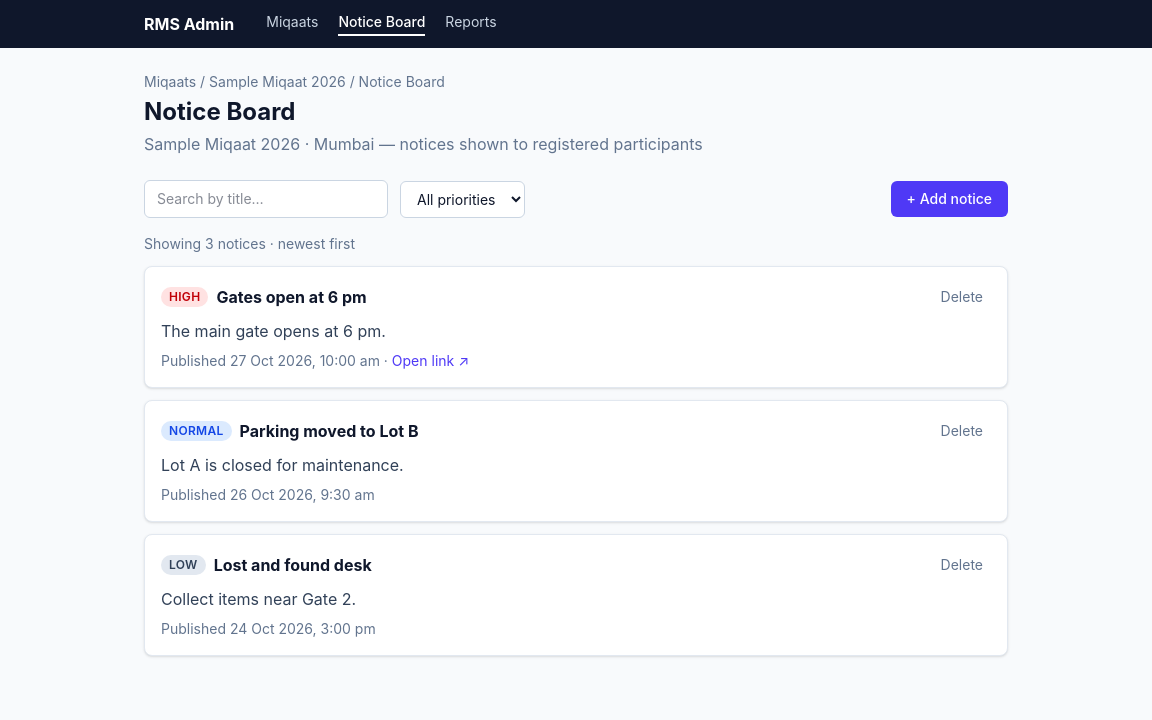
Test: NoticeBoard › adds a validated notice to the top of the list
Expected: the text "Showing 3 notices · newest first" is shown, x1=144 y1=235 x2=355 y2=252
Click the button "+ Add notice": (949, 199) x1=891 y1=181 x2=1008 y2=217
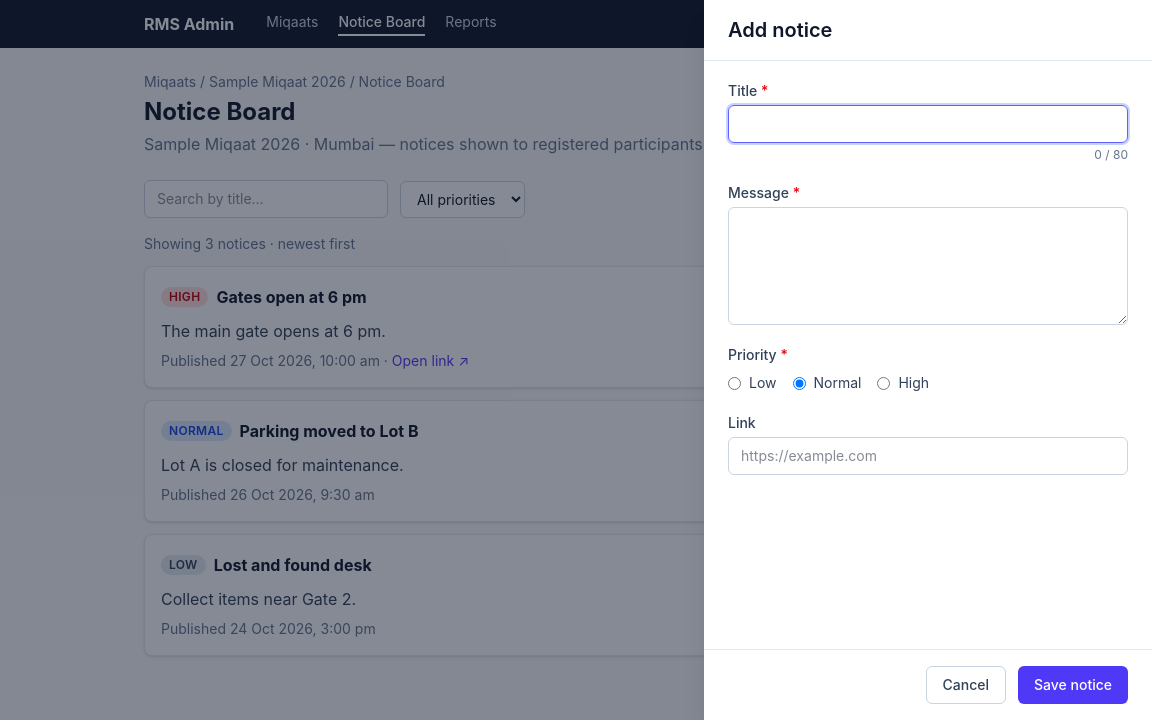
Click the button "Save notice": (1073, 685) x1=1018 y1=666 x2=1128 y2=704
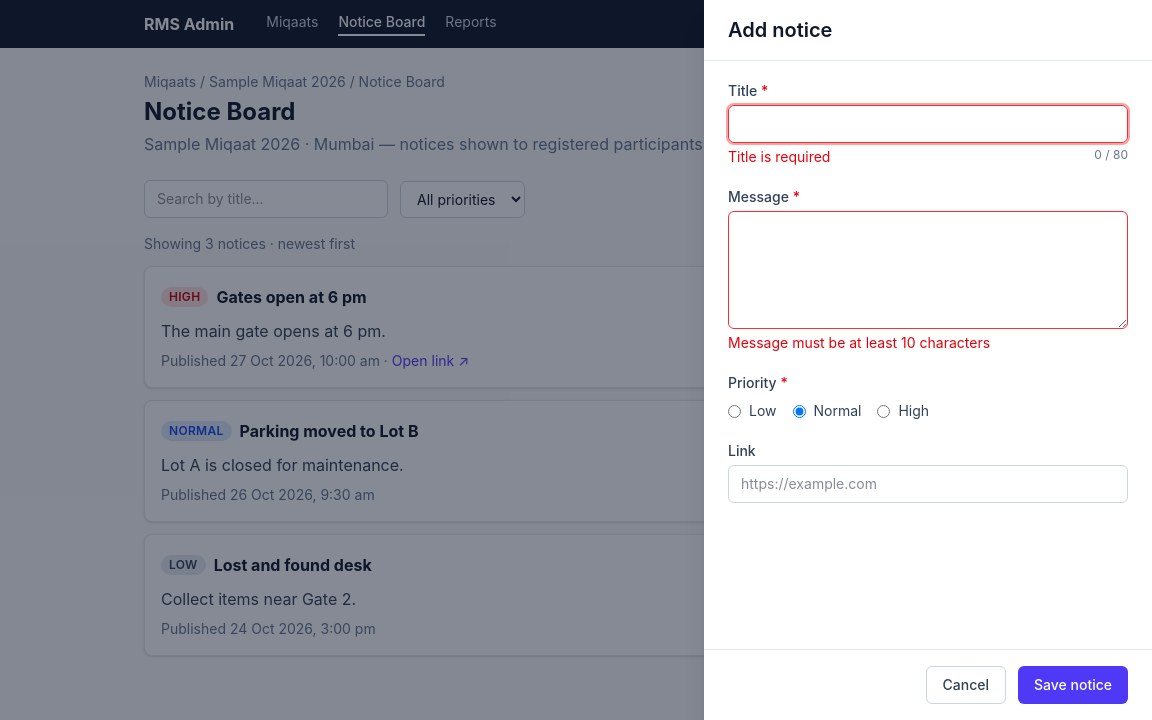
Expected: the text "Title is required" is shown, x1=728 y1=147 x2=830 y2=167
In the field labelled "Title *": (928, 124) x1=728 y1=105 x2=1128 y2=143, type "Water stations"
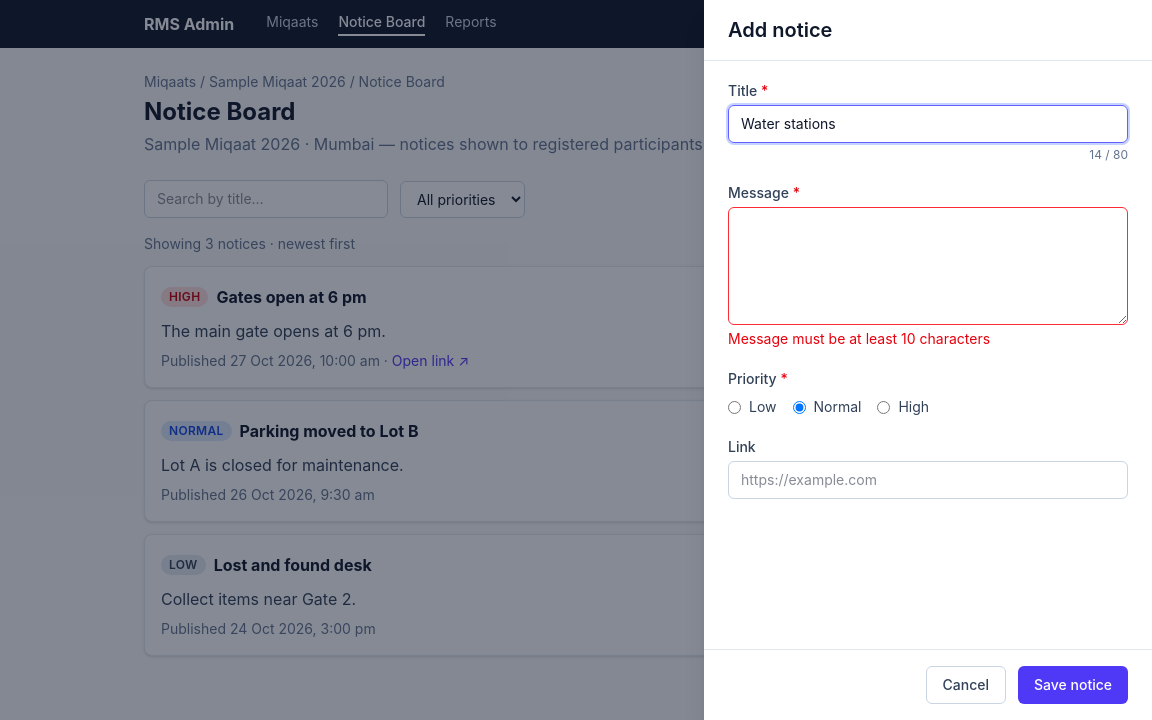
In the text box labelled "Message *": (928, 266) x1=728 y1=207 x2=1128 y2=325, type "Water is available at every gate."
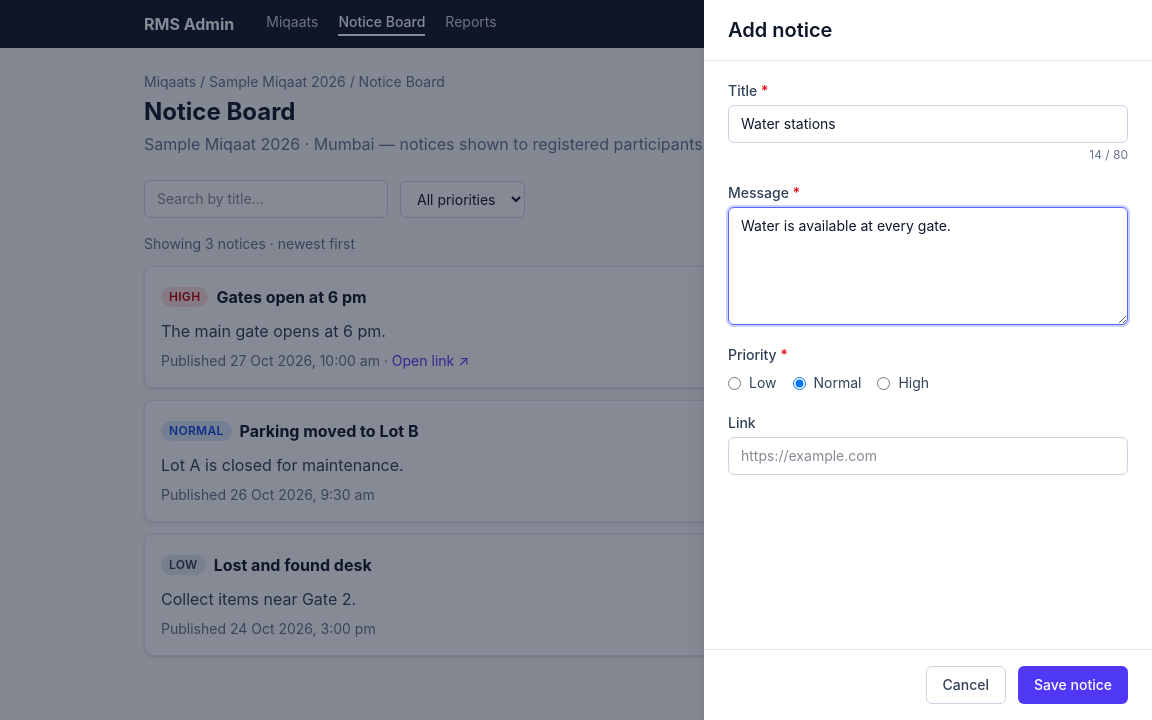
Click the button "Save notice": (1073, 685) x1=1018 y1=666 x2=1128 y2=704
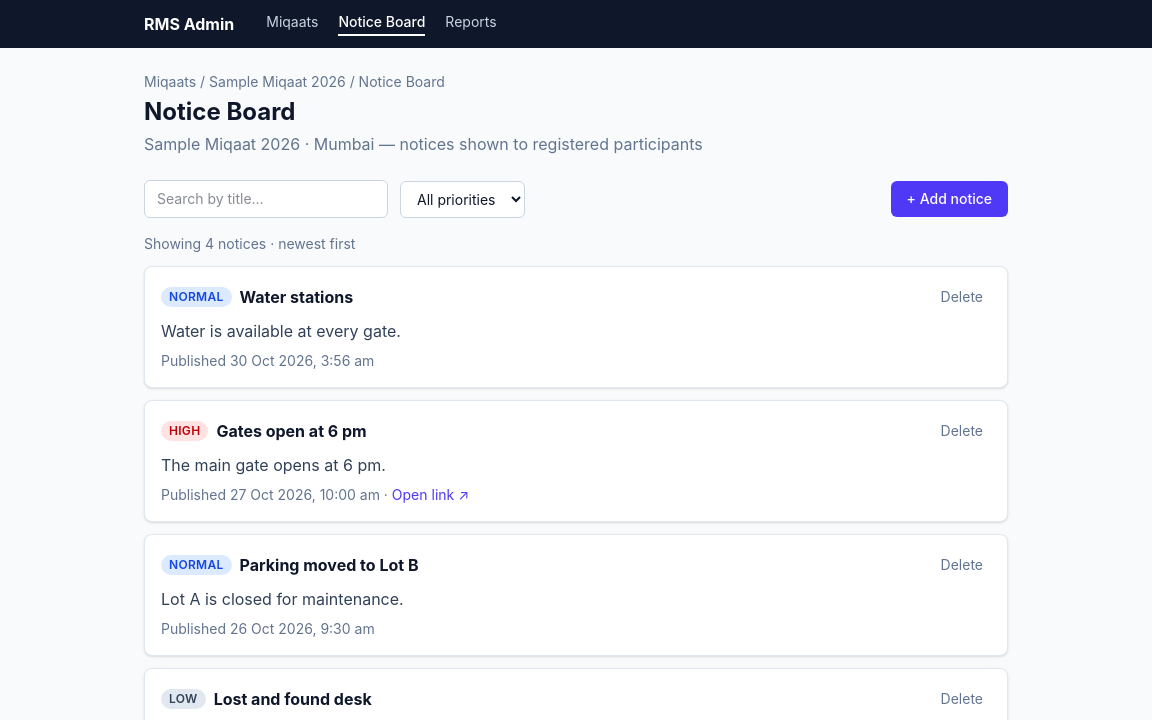
Expected: the text "Showing 4 notices · newest first" is shown, x1=144 y1=235 x2=355 y2=252
Expected: the dialog is gone
Expected: the heading "Water stations" is shown, x1=240 y1=285 x2=353 y2=309
